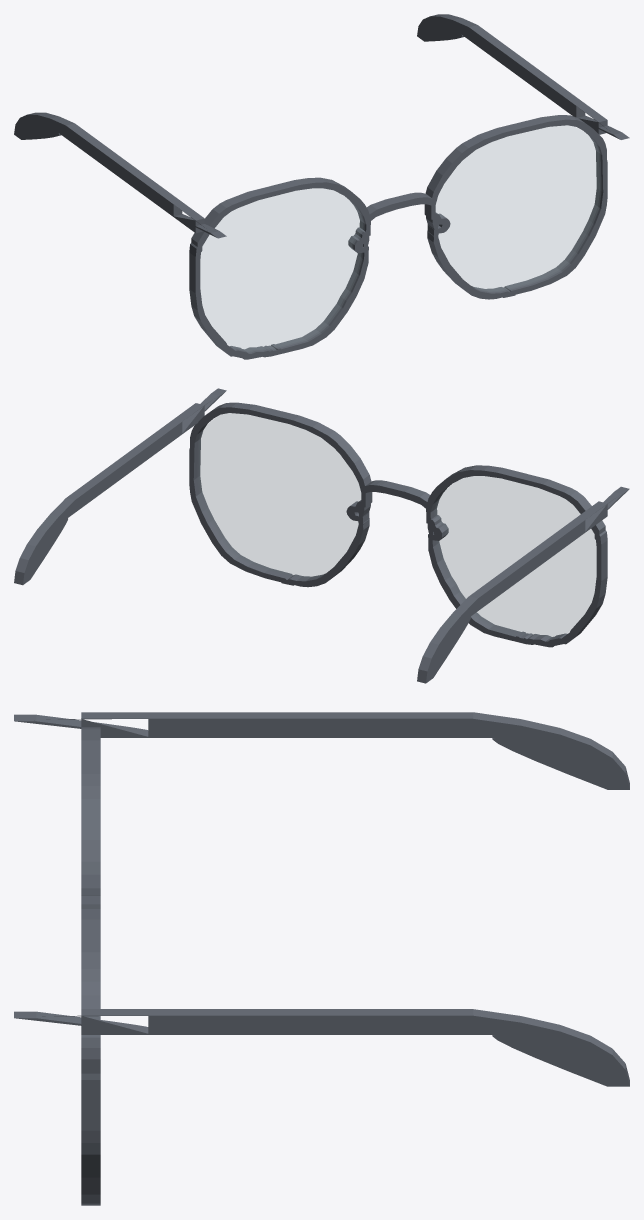
File: spe26.glb
3 renders of one model, top to bottom at view 1: azimuth 30°, elevation 25°; view 2: azimuth 150°, elevation 25°; view 3: azimuth 270°, elevation 25°, orthographic. The views are drawn at different scales.
Parts seen in each view (by area): view 1: LensRightExterior, LensLeftExterior, RimRight, RimLeft, EarhookRight, EarhookLeft, Bridge, TempleLeft, TempleRight; view 2: LensRightExterior, LensLeftExterior, RimRight, RimLeft, EarhookRight, EarhookLeft, Bridge, TempleLeft, TempleRight; view 3: EarhookRight, EarhookLeft, RimRight, RimLeft, TempleRight, TempleLeft.
Part boxes in pixels (x1,y1,x2,y2): LensRightExterior: (436,126,600,291); LensLeftExterior: (201,189,364,351); RimRight: (424,115,607,299); RimLeft: (189,177,370,359); EarhookRight: (417,14,585,117); EarhookLeft: (14,112,182,216); Bridge: (363,192,438,263); TempleLeft: (167,196,226,238); TempleRight: (573,103,629,139); LensRightExterior: (199,413,360,576); LensLeftExterior: (436,476,595,637); RimRight: (189,402,372,587); RimLeft: (426,465,607,647); EarhookRight: (14,419,182,585); EarhookLeft: (417,518,585,683); Bridge: (358,480,433,552); TempleLeft: (569,486,629,532); TempleRight: (166,388,226,434); EarhookRight: (148,1009,629,1086); EarhookLeft: (148,712,629,789); RimRight: (81,904,100,1205); RimLeft: (81,727,100,895); TempleRight: (14,1009,170,1034); TempleLeft: (14,712,170,737).
Bounding box in the file's own units: 0.14 × 0.0542 × 0.1201.
